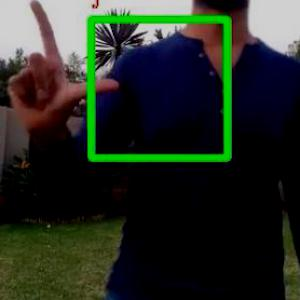land_hand: (3, 0, 120, 137)
